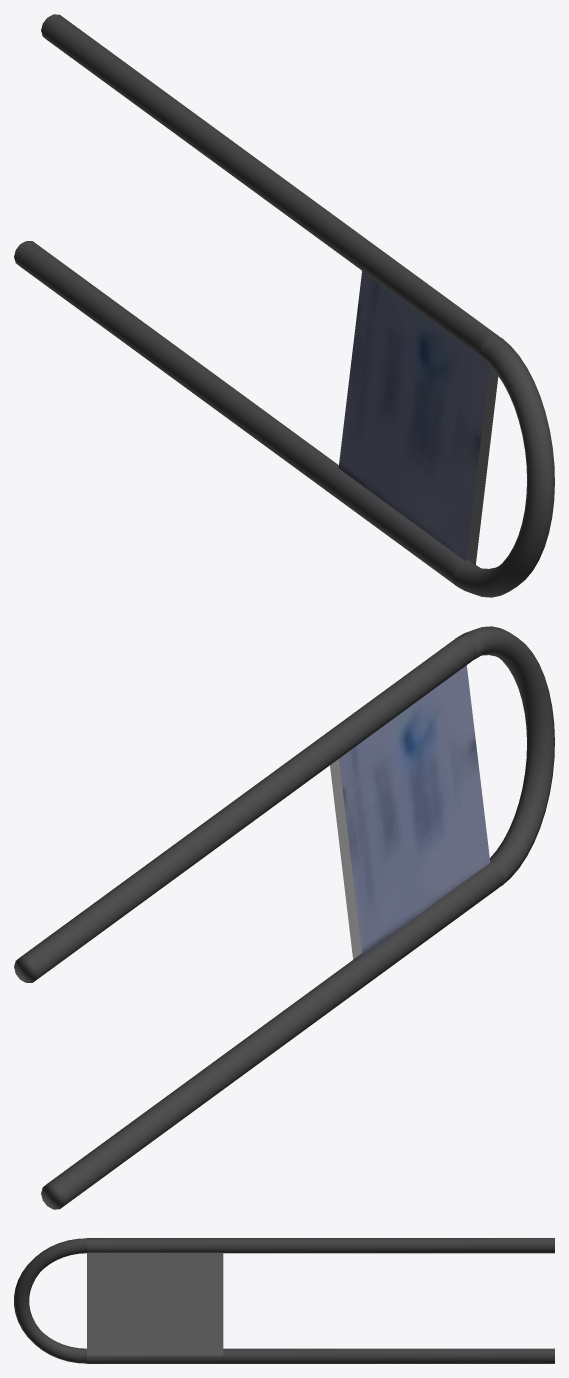
File: sign_2.glb
3 renders of one model, top to bottom at view 1: azimuth 30°, elevation 25°; view 2: azimuth 150°, elevation 25°; view 3: azimuth 270°, elevation 25°, orthographic. The views are drawn at different scales.
Visible parts, largest first — view 1: sign_2; view 2: sign_2; view 3: sign_2.
Boxes of the visible parts, <box> form: sign_2: <box>14,14,554,597</box>; sign_2: <box>14,626,554,1209</box>; sign_2: <box>14,1238,554,1363</box>.
Size of the model in its own units: 0.0023 by 0.0104 by 0.0388.
3 materials, 1 textured.
